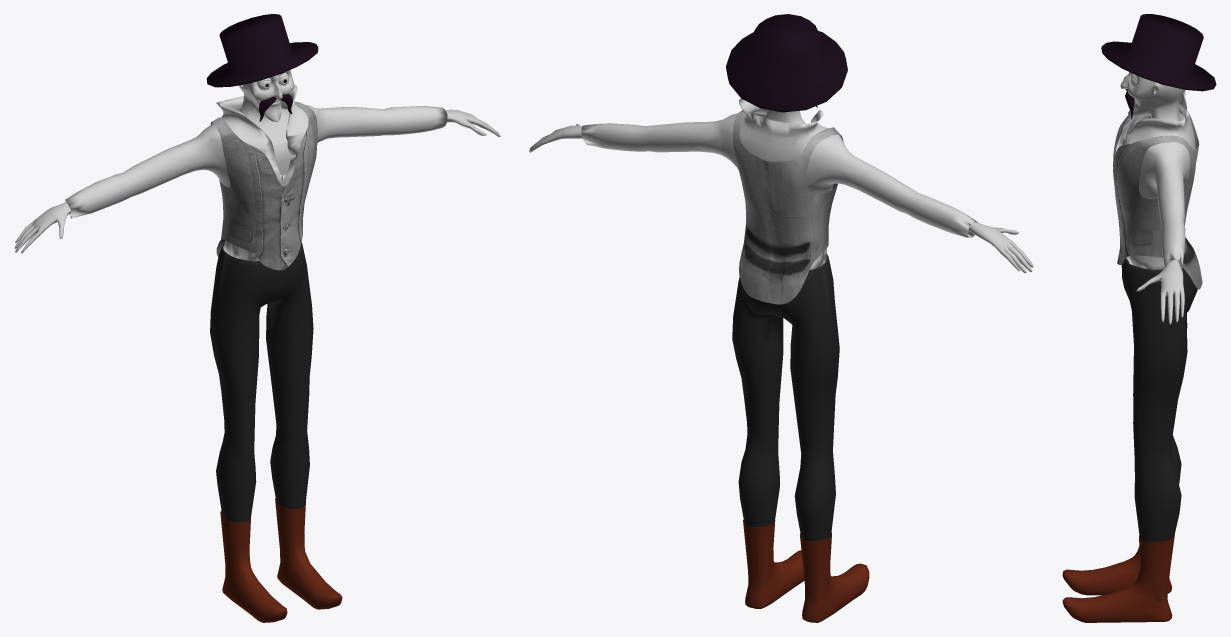
The model's file is VON10LowPoly.fbx.
3 renders of one model, left to right at view 1: azimuth 30°, elevation 25°; view 2: azimuth 150°, elevation 25°; view 3: azimuth 270°, elevation 25°, orthographic. The views are drawn at different scales.
Visible parts, largest first — view 1: VON; view 2: VON; view 3: VON.
Part boxes in pixels (box(x1,y1,x2,y2)): VON: box(14, 14, 500, 622); VON: box(529, 14, 1033, 622); VON: box(1062, 14, 1216, 622).
Bounding box in the file's own units: 1536 × 1722 × 411.
